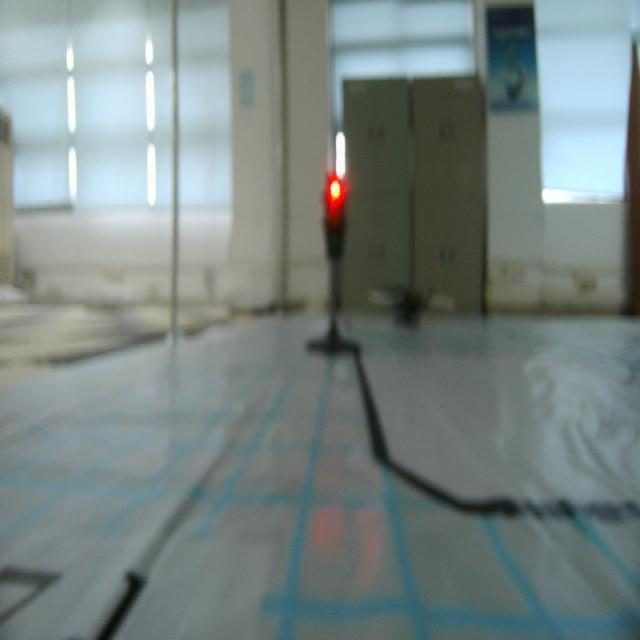red: (322, 172, 348, 261)
